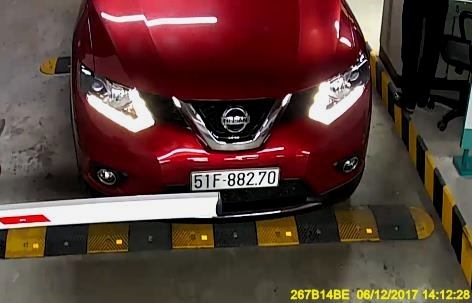plate: (187, 167, 284, 190)
